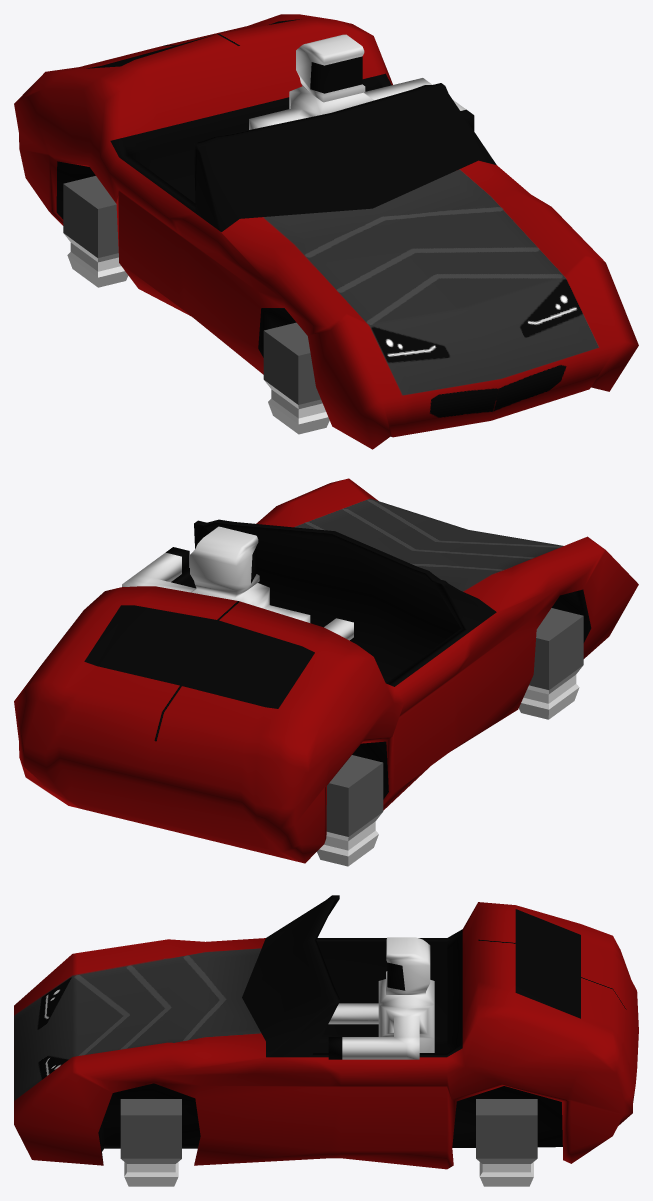
The model's file is fixedorientation.fbx.
The picture shows the model from 3 angles, top to bottom: view 1: azimuth 30°, elevation 25°; view 2: azimuth 150°, elevation 25°; view 3: azimuth 270°, elevation 25°; orthographic projection. The views are drawn at different scales.
Visible parts, largest first — view 1: pCube7; view 2: pCube7; view 3: pCube7.
Boxes of the visible parts, x1,y1,x2,y2 form: pCube7: [14, 14, 638, 449]; pCube7: [14, 478, 638, 866]; pCube7: [14, 895, 638, 1186].
Bounding box in the file's own units: 2.16 × 1.6 × 4.44.
